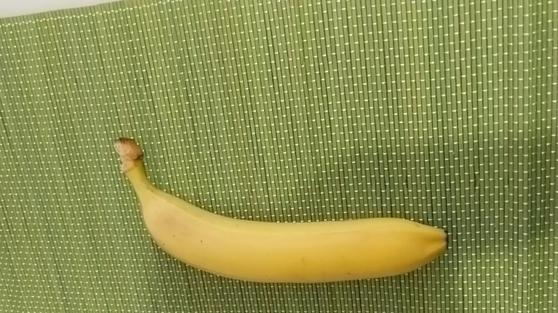banana: (114, 138, 450, 286)
